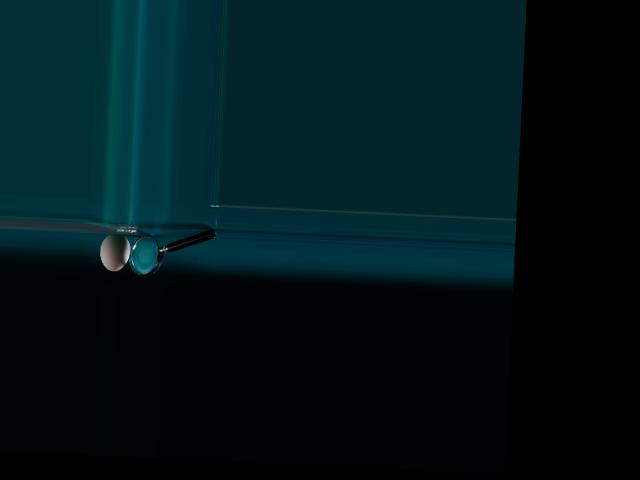egg: (98, 232, 130, 272)
